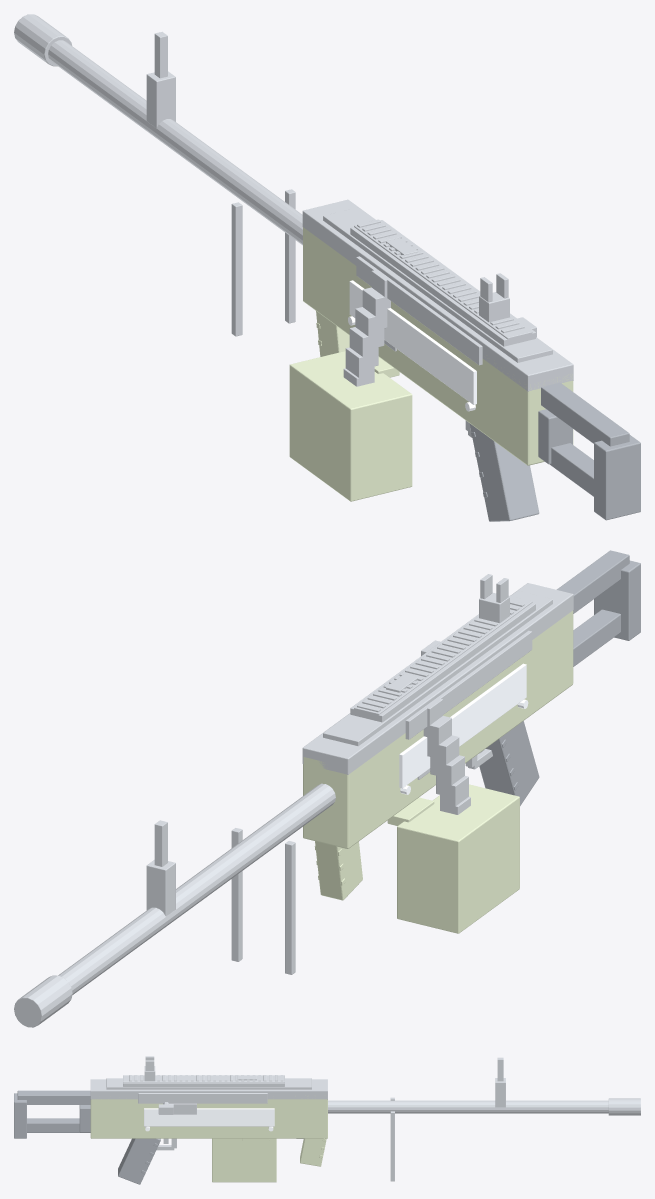
Rendered from negev.glb.
The picture shows the model from 3 angles, top to bottom: view 1: azimuth 30°, elevation 25°; view 2: azimuth 150°, elevation 25°; view 3: azimuth 270°, elevation 25°; orthographic projection. The views are drawn at different scales.
Parts seen in each view (by area): view 1: mag, Receiver, FeedCover, Barrel, FrameRail, Grip, ReceiverRibL, StockPlate, BeltTail, StockIrons, StockArmTop, FeedTray (+6 smaller); view 2: mag, Receiver, Barrel, FeedCover, FrameRail, ReceiverRibL, BeltTail, StockIrons, Grip, FeedTray, Foregrip, StockPlate (+5 smaller); view 3: Receiver, Barrel, mag, FeedCover, ReceiverRibR, FrameRail, FeedTray, Grip, StockArmTop, StockArmBot, StockIrons, Foregrip (+5 smaller).
Boxes of the visible parts, box(x1,y1,x2,y2) form: mag: box(289, 351, 412, 501); Receiver: box(303, 227, 573, 465); FeedCover: box(302, 199, 573, 391); Barrel: box(48, 40, 302, 245); FrameRail: box(350, 219, 535, 346); Grip: box(469, 423, 539, 521); ReceiverRibL: box(349, 280, 476, 404); StockPlate: box(594, 435, 640, 520); BeltTail: box(343, 269, 390, 386); StockIrons: box(146, 31, 509, 322); StockArmTop: box(541, 382, 629, 446); FeedTray: box(356, 256, 482, 365); mag: box(387, 784, 519, 933); Receiver: box(303, 610, 573, 848); Barrel: box(18, 783, 335, 1023); FeedCover: box(302, 583, 573, 774); FrameRail: box(350, 595, 535, 722); ReceiverRibL: box(399, 663, 526, 788); BeltTail: box(423, 698, 470, 814); StockIrons: box(146, 574, 509, 916); Grip: box(479, 721, 539, 805); FeedTray: box(405, 630, 532, 739); Foregrip: box(314, 841, 362, 900); StockPlate: box(594, 560, 640, 640); Receiver: box(90, 1095, 327, 1138); Barrel: box(328, 1100, 608, 1113); mag: box(212, 1138, 276, 1182); FeedCover: box(90, 1078, 327, 1099); ReceiverRibR: box(144, 1108, 274, 1126); FrameRail: box(123, 1075, 284, 1086); FeedTray: box(138, 1093, 267, 1103); Grip: box(118, 1138, 160, 1184); StockArmTop: box(17, 1090, 90, 1104); StockArmBot: box(27, 1118, 90, 1132); StockIrons: box(144, 1056, 505, 1107); Foregrip: box(300, 1138, 326, 1166).
Size of the model in its own units: 0.153 by 0.265 by 1.16.
